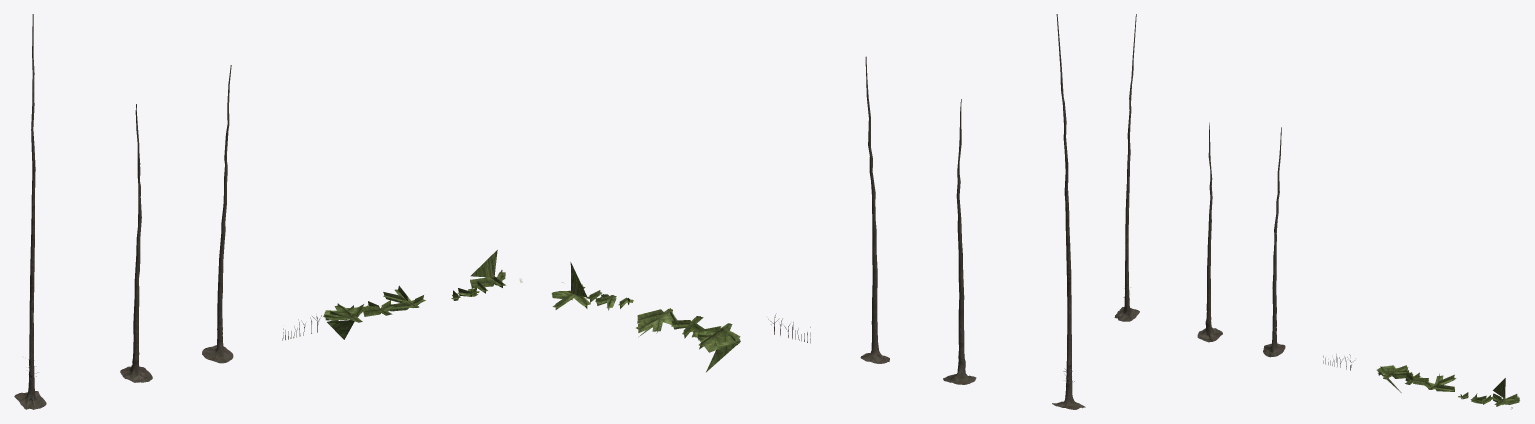
File: field_fir_a_lod2.glb
3 renders of one model, left to right at view 1: azimuth 30°, elevation 25°; view 2: azimuth 150°, elevation 25°; view 3: azimuth 330°, elevation 25°, orthographic. The views are drawn at different scales.
Visible parts, largest first — view 1: bark_lod2, foliage_lod2; view 2: bark_lod2, foliage_lod2; view 3: bark_lod2, foliage_lod2.
Boxes of the visible parts, box(x1,y1,x2,y2) form: bark_lod2: box(14, 14, 321, 409); foliage_lod2: box(323, 250, 522, 339); bark_lod2: box(768, 14, 1085, 409); foliage_lod2: box(551, 262, 740, 372); bark_lod2: box(1114, 14, 1354, 370); foliage_lod2: box(1376, 365, 1519, 409).
Bounding box in the file's own units: 24.02 × 19.01 × 2.77.
2 materials, 2 textured.
